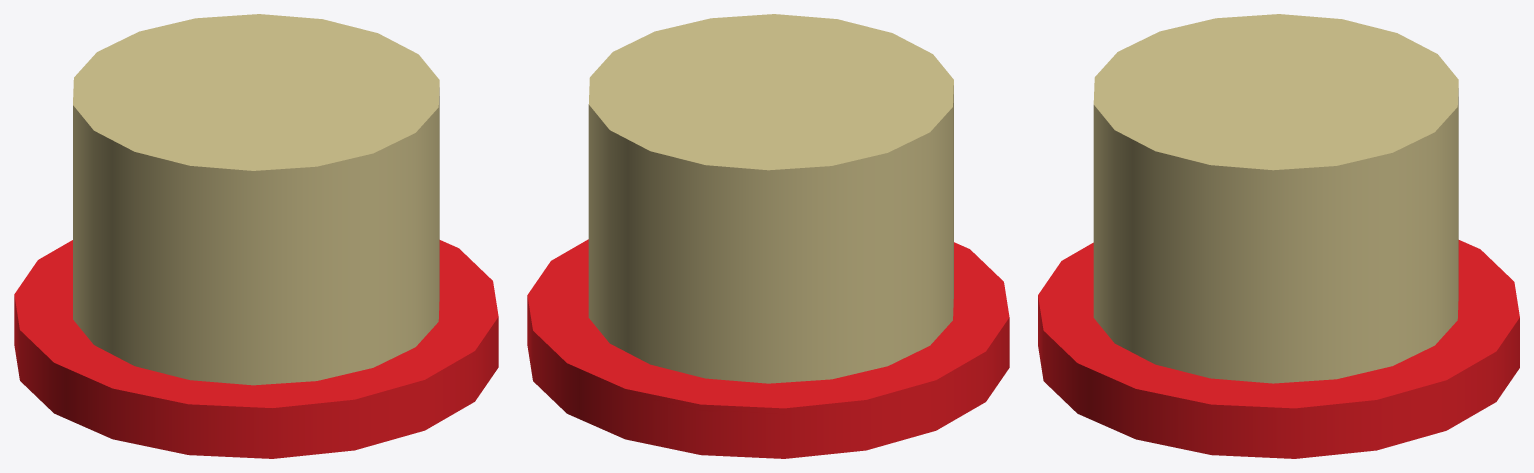
File: Gimmick_Button.FBX
3 views of the same model, side by side, from view 1: azimuth 30°, elevation 25°; view 2: azimuth 150°, elevation 25°; view 3: azimuth 270°, elevation 25° (orthographic).
Parts seen in each view (by area): view 1: Cylinder001, Cylinder002; view 2: Cylinder001, Cylinder002; view 3: Cylinder001, Cylinder002.
Boxes of the visible parts, bbox=[...] form: Cylinder001: bbox=[73, 14, 439, 385]; Cylinder002: bbox=[14, 240, 498, 458]; Cylinder001: bbox=[588, 14, 953, 383]; Cylinder002: bbox=[527, 239, 1009, 458]; Cylinder001: bbox=[1093, 14, 1458, 383]; Cylinder002: bbox=[1038, 240, 1519, 458].
Size of the model in its own units: 79.95 by 79.65 by 48.12.
2 materials, 2 textured.
